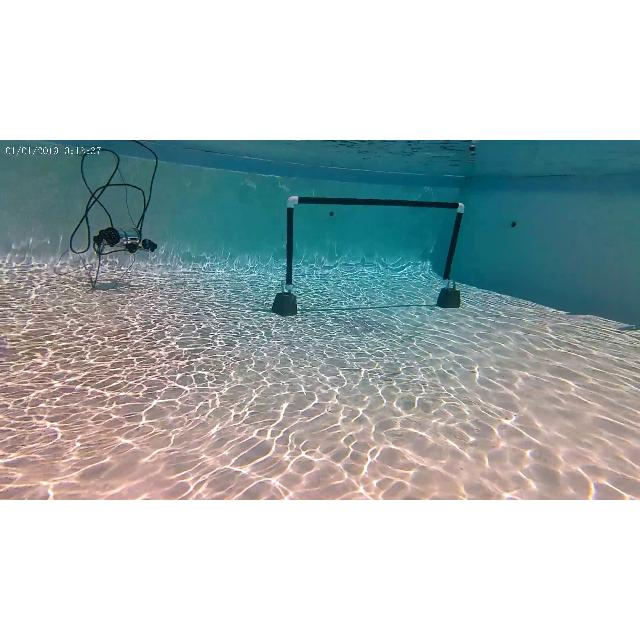prequal gate: (287, 196, 465, 290)
prequal gate leg l: (284, 195, 296, 292)
prequal gate leg r: (439, 201, 465, 289)
